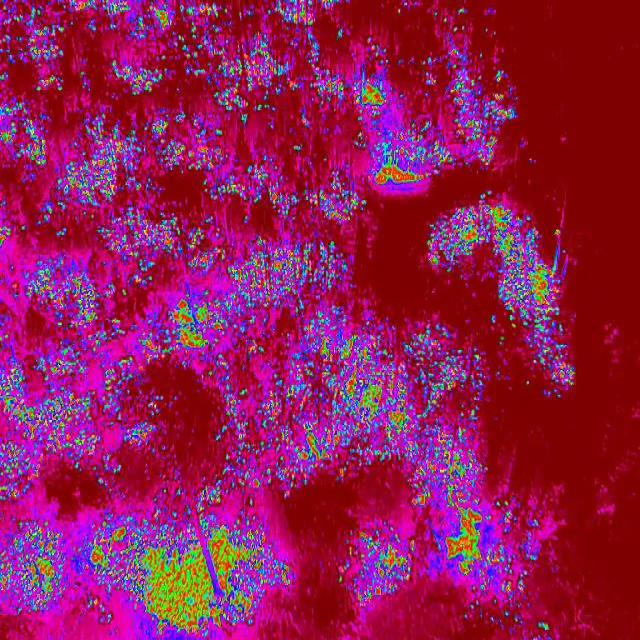fire: (0, 0, 298, 640), (298, 0, 512, 162), (375, 314, 491, 518), (296, 216, 376, 494), (431, 496, 554, 640), (421, 194, 570, 280), (492, 278, 576, 392), (341, 520, 430, 612), (298, 164, 429, 216)
